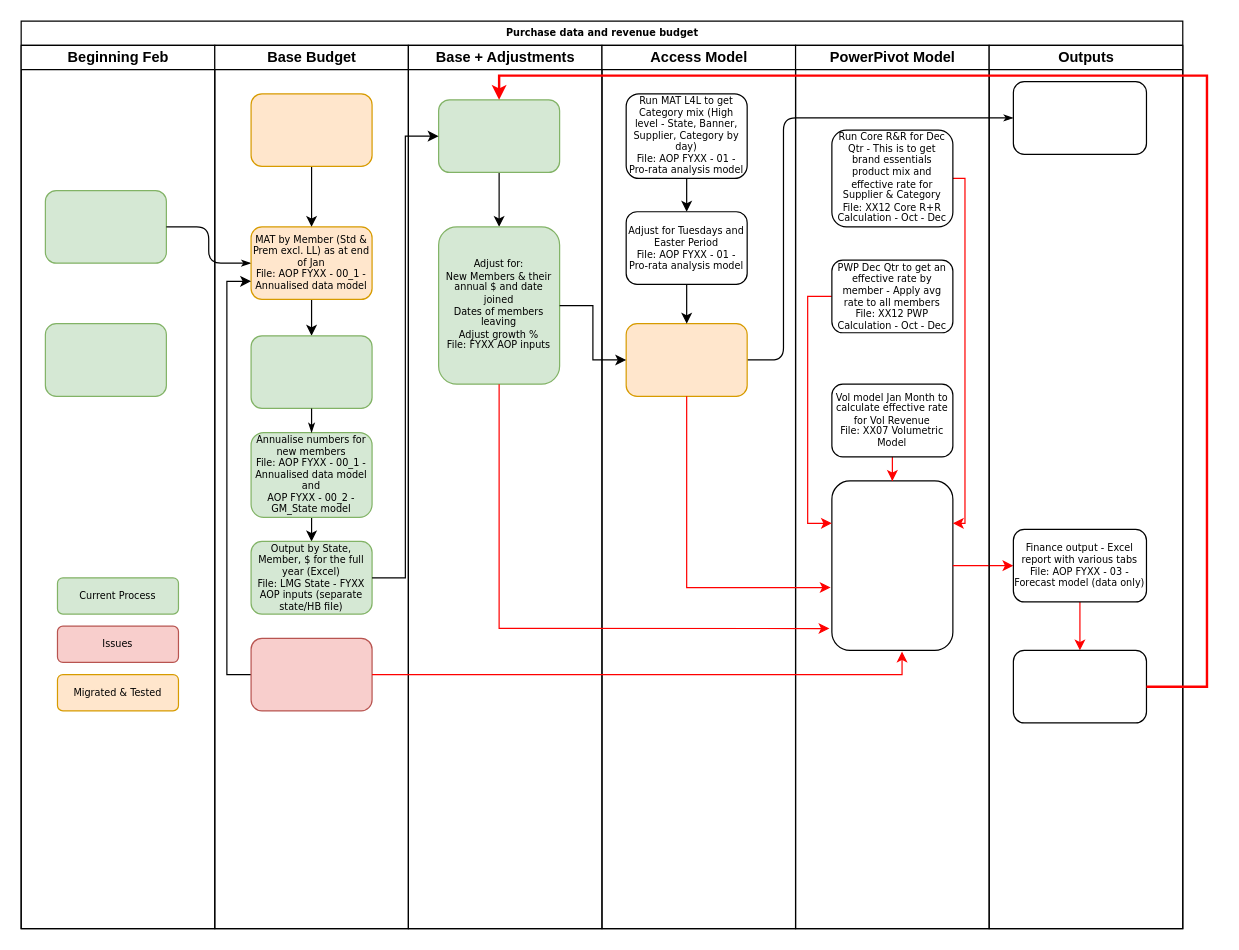
Image size: 1239x950. Some labels were removed from this diagram. Here are the shapes that lost their labels. From the top down, the centre of each, then its label:
the point at 311,129: Member Banner File: Member_Banner
the point at 498,135: GM's Review output File: LMG State - FYXX AOP inputs (separate state/HB file)
the point at 1079,117: Data warehouse feed (only when budget is finalised) File: Z_02_CDL_Adj
the point at 105,226: Budget timelines issued
the point at 105,359: Budget assumptions/ guidelines?
the point at 311,371: Remove "lost" members
the point at 686,359: Run the access model File: AOP FYXX - 02 - Pro-rata model
the point at 892,565: Run powerPivot Model File: AOP FYXX - 03 - Forecast model
the point at 311,674: Membership period File: YYMMDD Date_Joined_EDW
the point at 1079,686: Request for change (various iterations) and commence the cycle again
